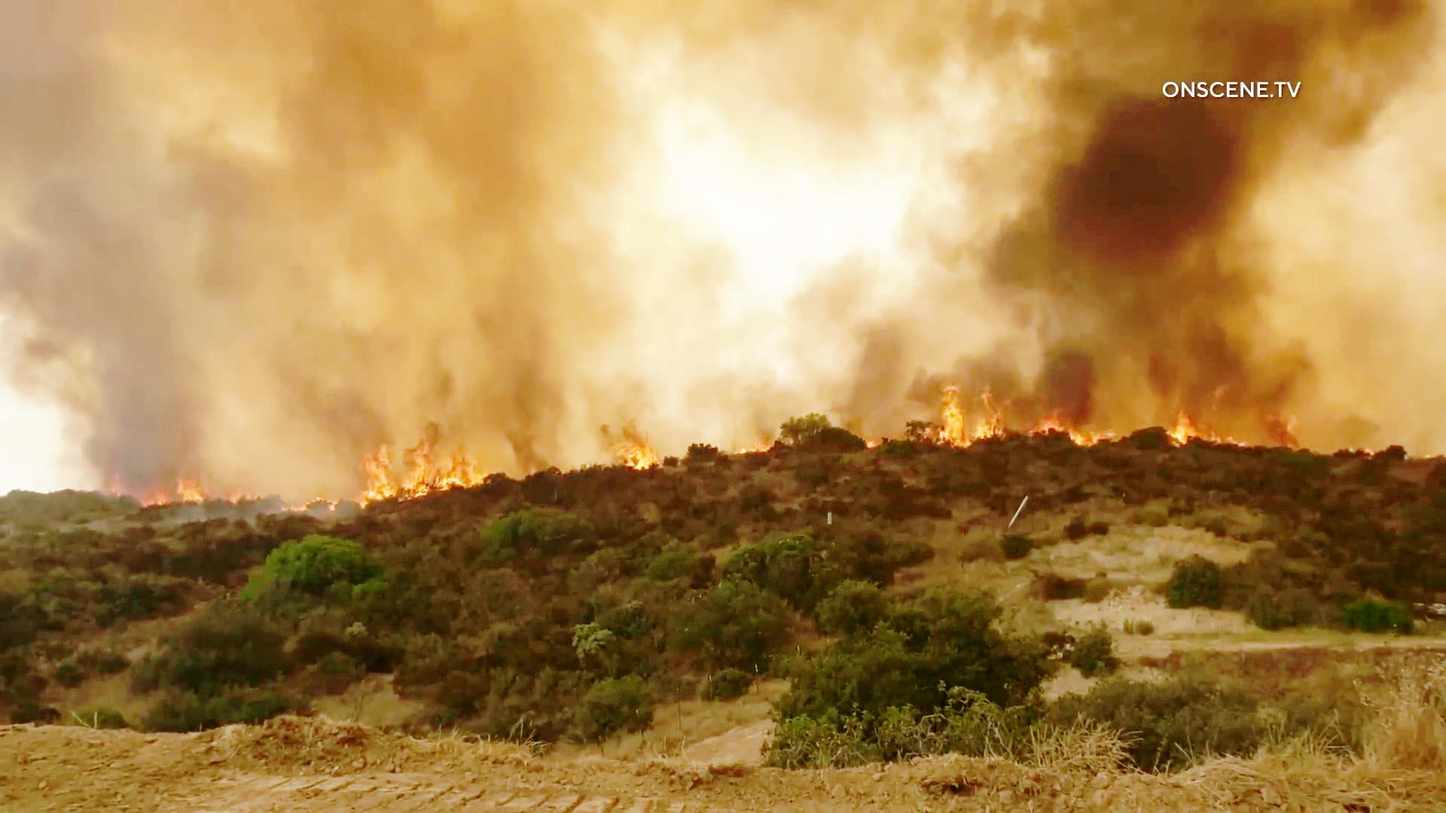fire: (358, 416, 493, 521), (923, 386, 1028, 460)
smoke: (1066, 136, 1288, 398), (42, 222, 210, 482)
